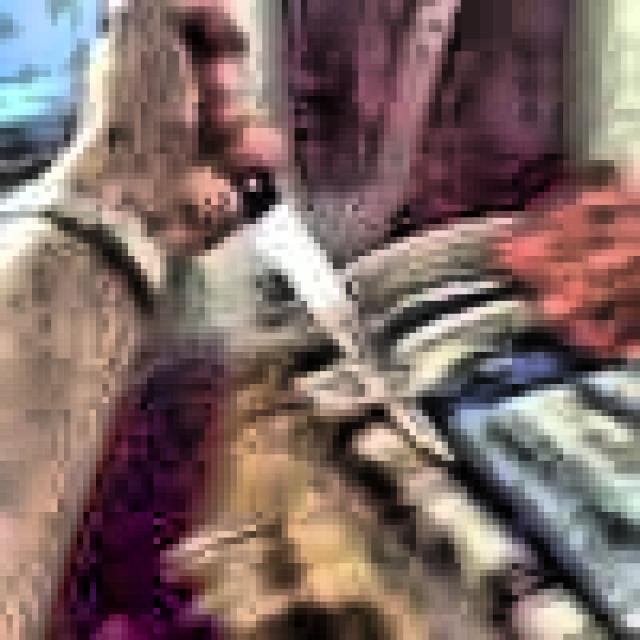knife: (242, 179, 458, 474)
